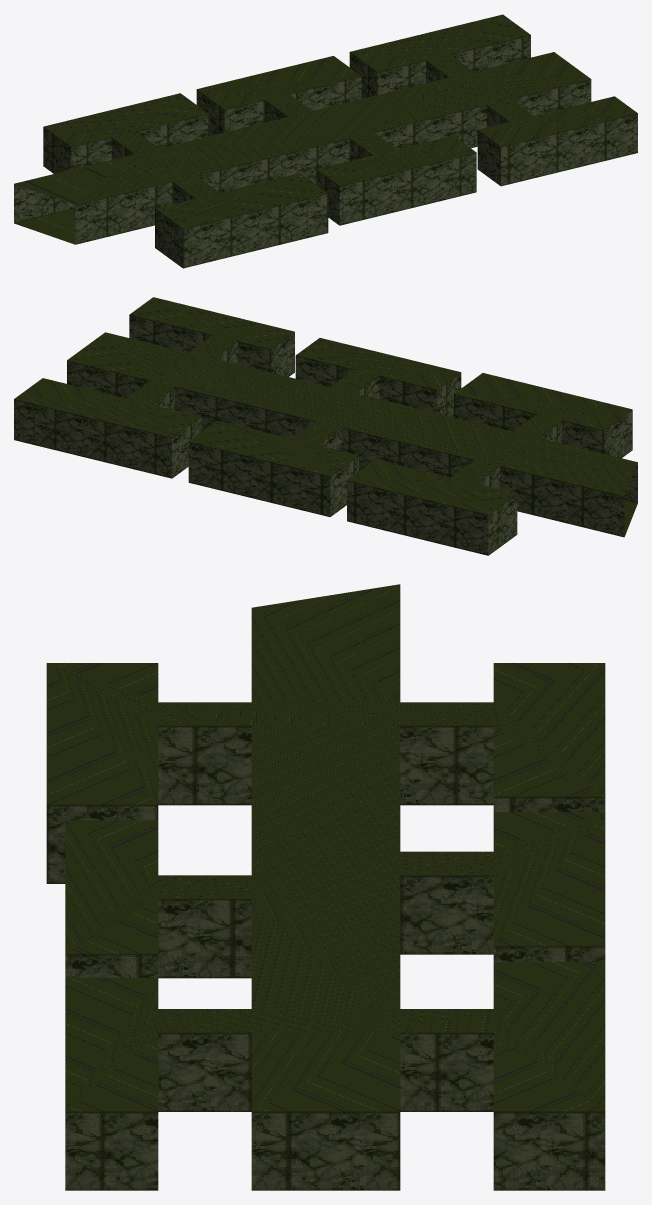
The model's file is testMap.glb.
The picture shows the model from 3 angles, top to bottom: view 1: azimuth 30°, elevation 25°; view 2: azimuth 150°, elevation 25°; view 3: azimuth 270°, elevation 25°; orthographic projection. The views are drawn at different scales.
Parts seen in each view (by area): view 1: Plane; view 2: Plane; view 3: Plane.
Boxes of the visible parts, x1,y1,x2,y2 form: Plane: (14,14,637,268); Plane: (14,297,637,555); Plane: (46,584,605,1190).
Bounding box in the file's own units: 67 × 4.71 × 30.
1 material, 1 textured.
